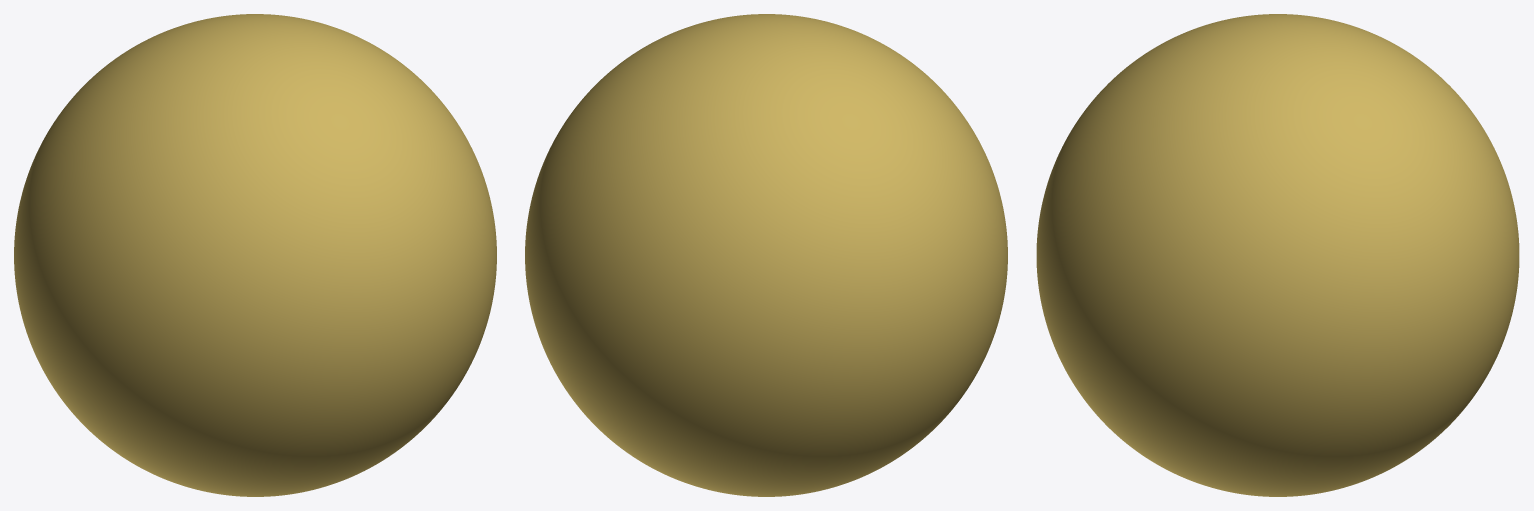
The model's file is yellow2.fbx.
The picture shows the model from 3 angles, left to right: view 1: azimuth 30°, elevation 25°; view 2: azimuth 150°, elevation 25°; view 3: azimuth 270°, elevation 25°; orthographic projection.
Visible parts, largest first — view 1: Object_1; view 2: Object_1; view 3: Object_1.
Part boxes in pixels (x1=…): Object_1: x1=14, y1=14, x2=496, y2=496; Object_1: x1=525, y1=14, x2=1007, y2=496; Object_1: x1=1036, y1=14, x2=1519, y2=496.
Bounding box in the file's own units: 1.13 × 1.13 × 1.13.
